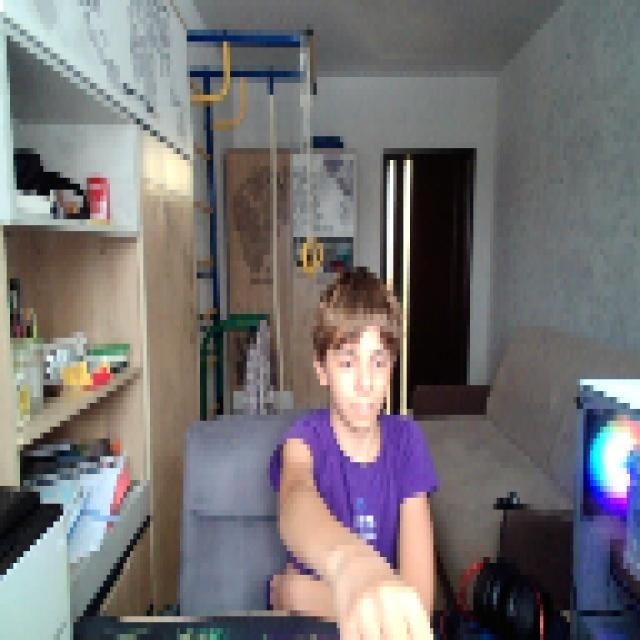left_click: (340, 575, 430, 634)
